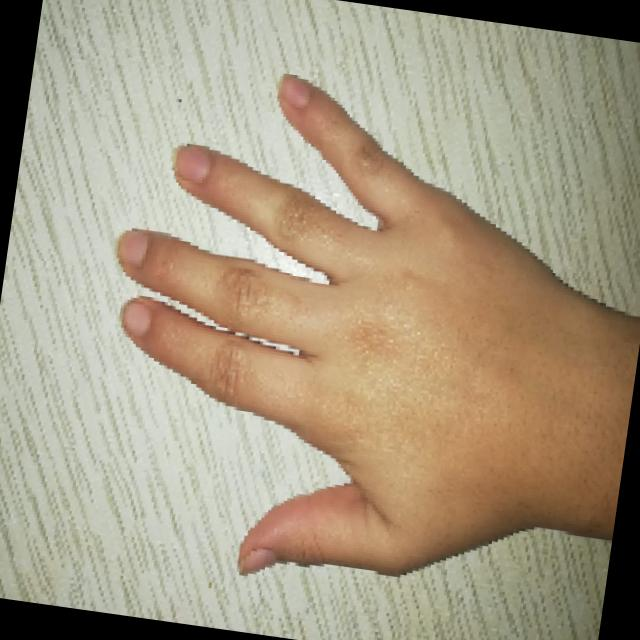Nail: (174, 145, 210, 183), (117, 230, 148, 267), (121, 299, 151, 336), (238, 548, 276, 573), (281, 76, 310, 107)
